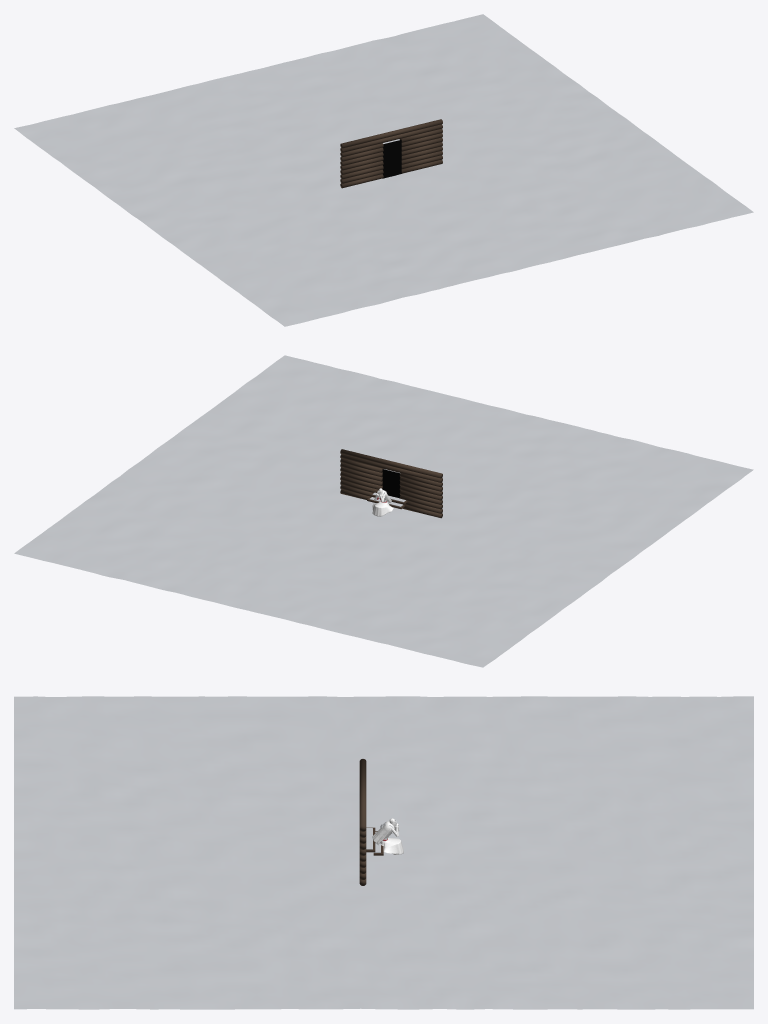
Rendered from babka_sculpt_lite.glb.
3 views of the same model, one above another, from view 1: azimuth 30°, elevation 25°; view 2: azimuth 150°, elevation 25°; view 3: azimuth 270°, elevation 25° (orthographic). The views are drawn at different scales.
Visible parts, largest first — view 1: Plane, Plane.001, Cylinder.017, Cylinder.016; view 2: Plane, Cylinder.017; view 3: Plane, Cylinder.017.
Boxes of the visible parts, <box> form: Plane: <box>14,14,753,326</box>; Plane.001: <box>382,140,401,178</box>; Cylinder.017: <box>340,119,442,148</box>; Cylinder.016: <box>340,124,442,152</box>; Plane: <box>14,355,753,667</box>; Cylinder.017: <box>340,449,442,478</box>; Plane: <box>14,696,753,1009</box>; Cylinder.017: <box>359,759,366,831</box>.
Bounding box in the file's own units: 30 × 2.81 × 30.
